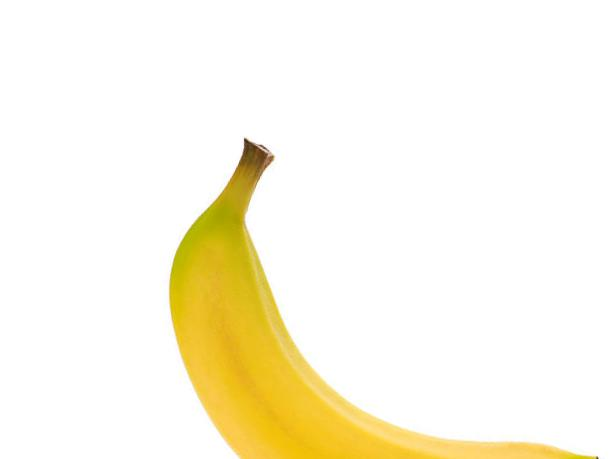banana: (166, 134, 604, 459)
